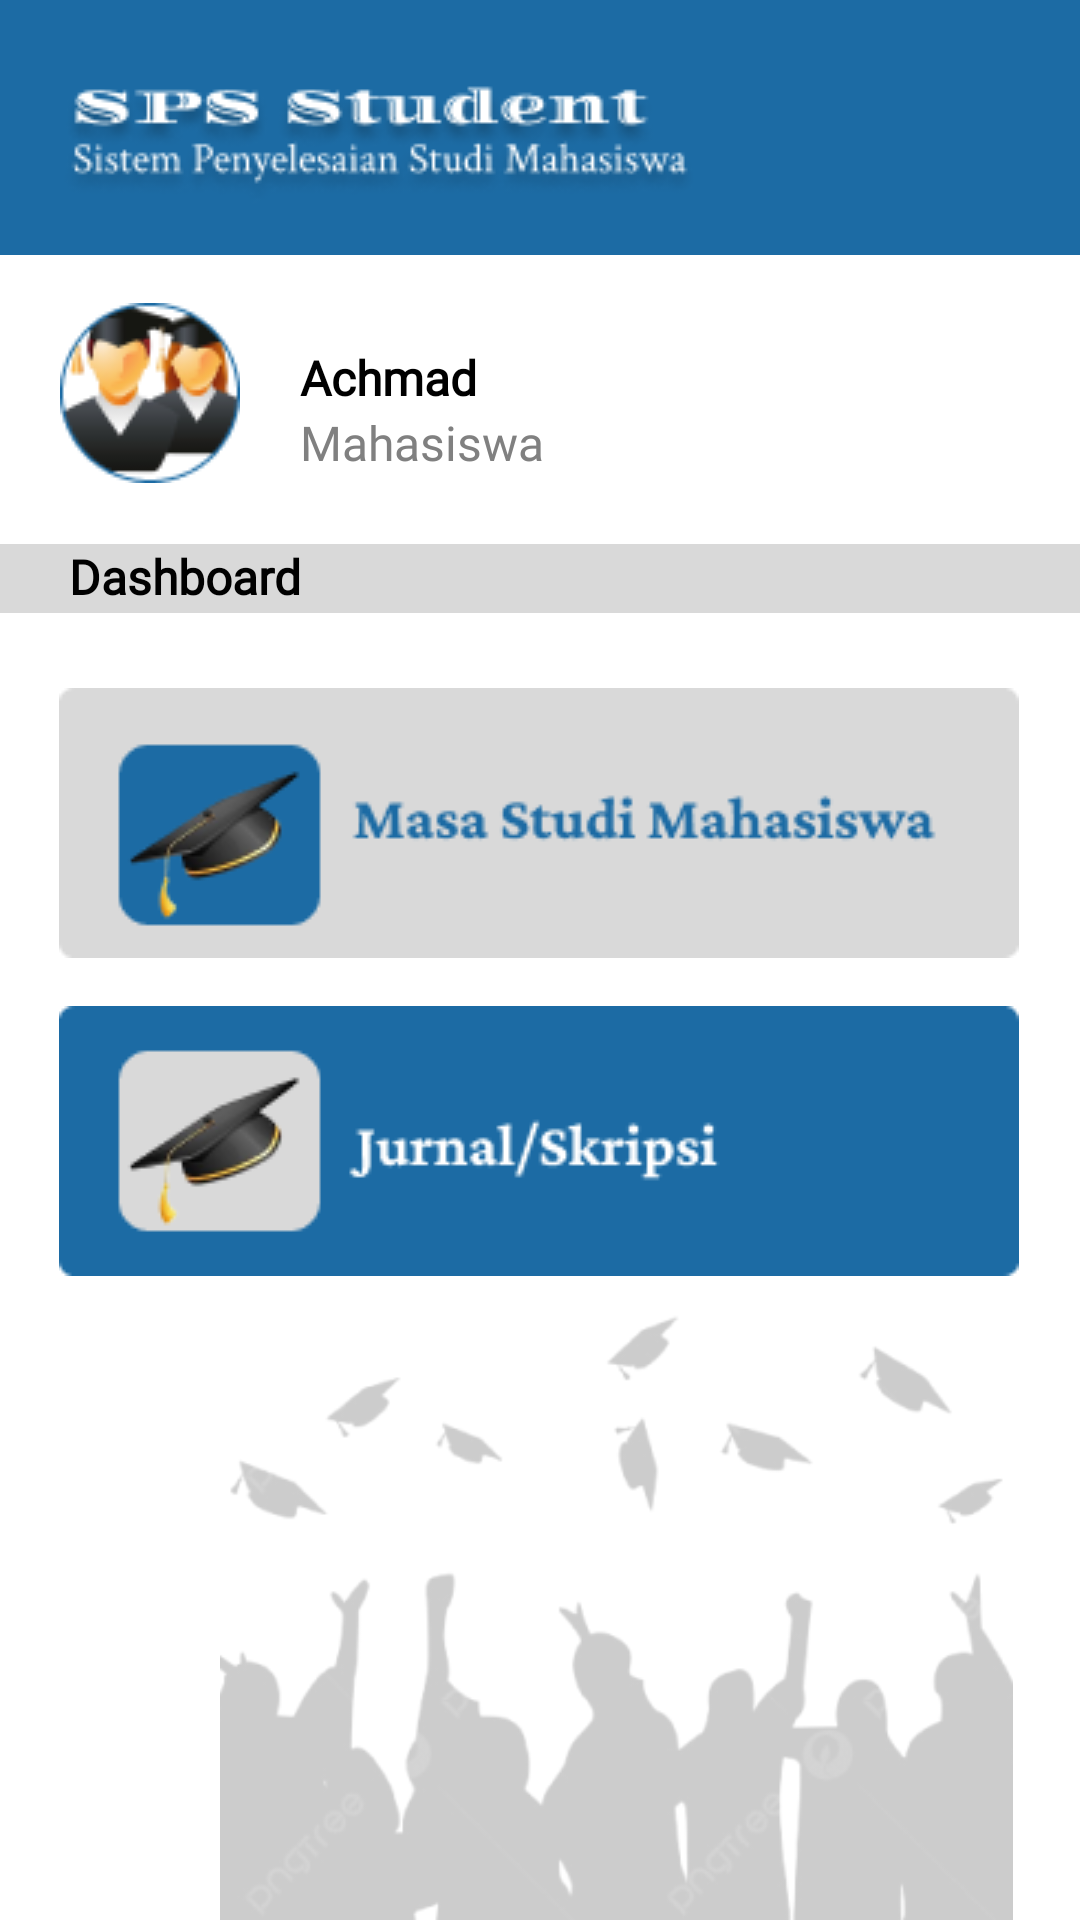

Where icons sit on this 1080w x 1920h app screen, as (x1, y1, x2, y2):
foto: (60, 303, 240, 483)
